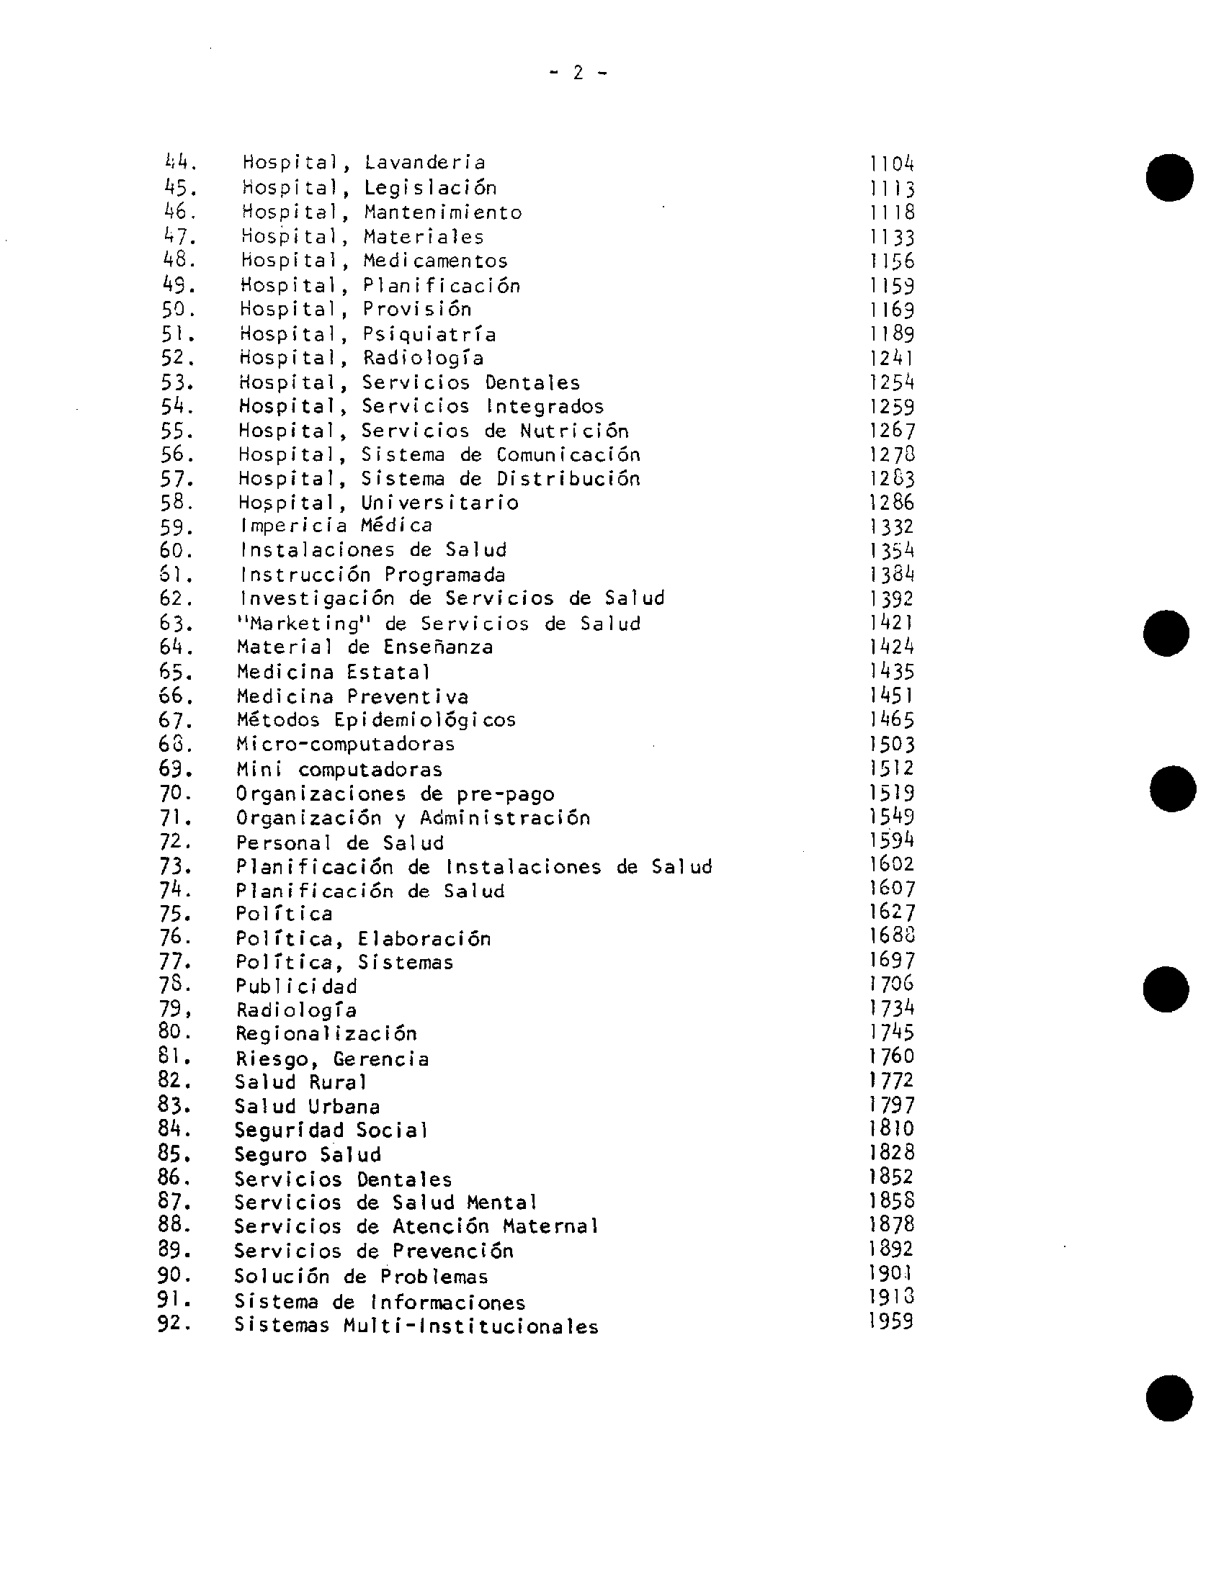nolines: (152, 148, 923, 1337)
